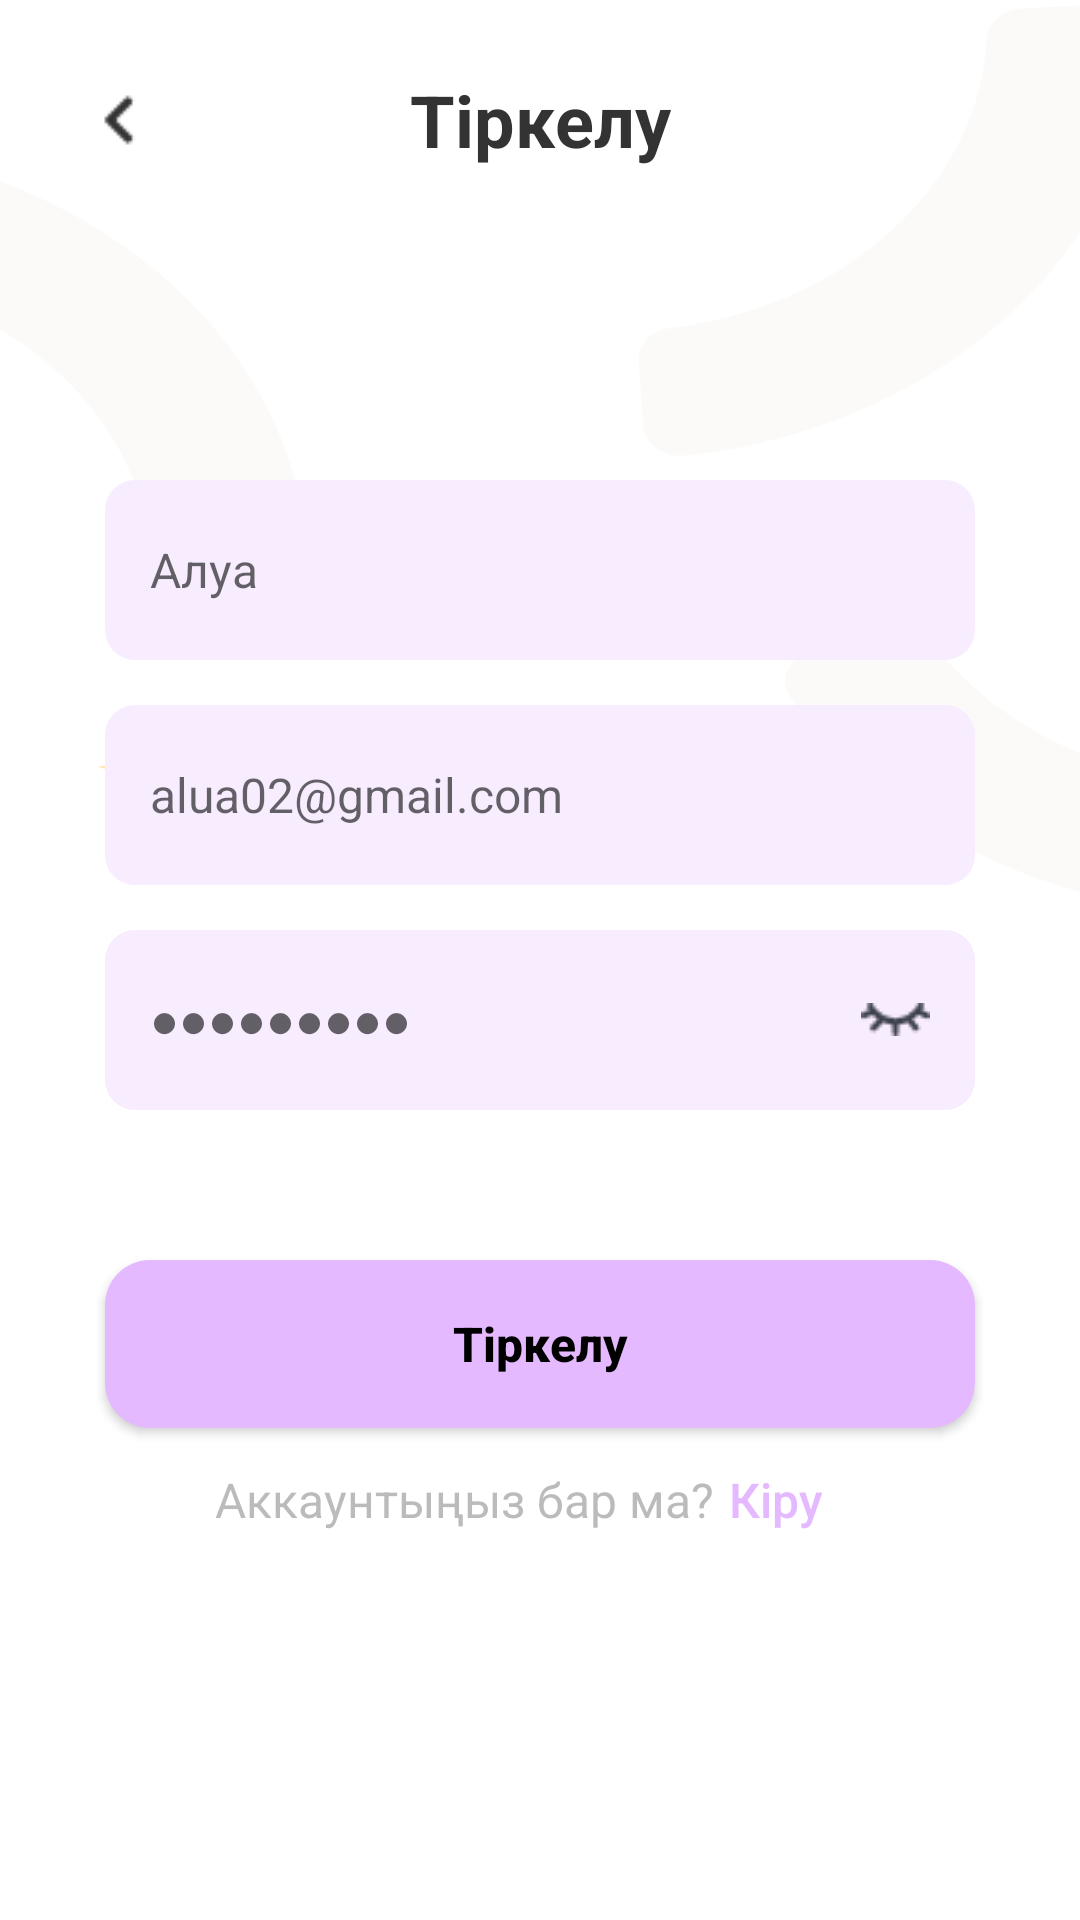

Where icons sit on this 1080×1920 app screen, as (x1,y1,x2,y2):
back: (104,95,133,145)
